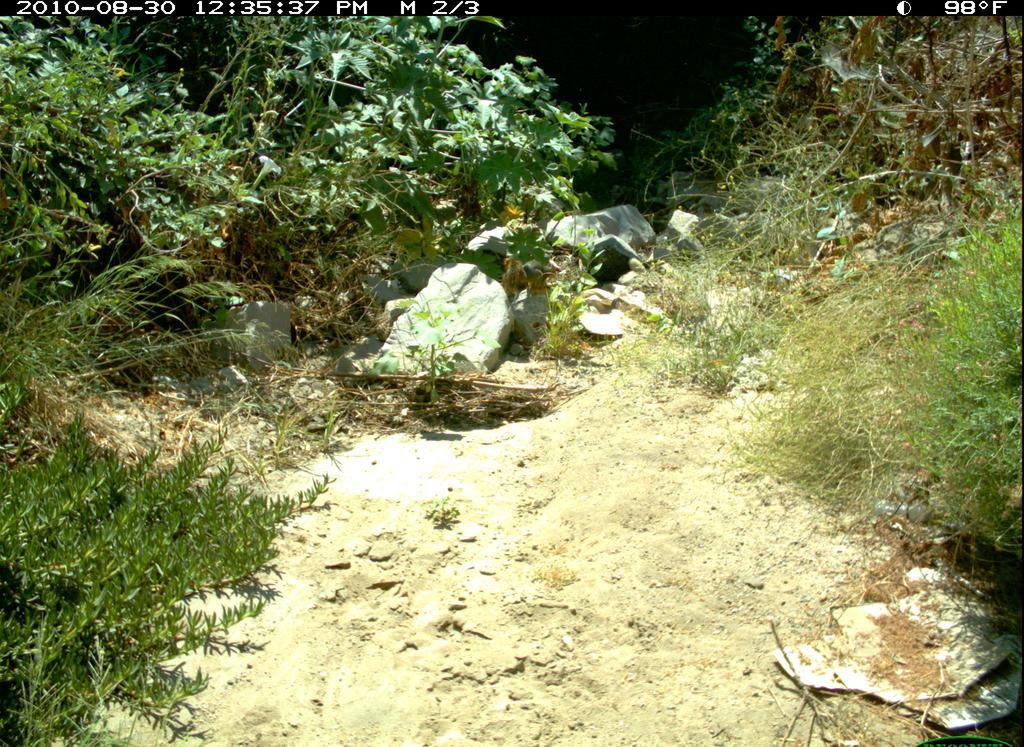squirrel: (474, 233, 562, 315)
